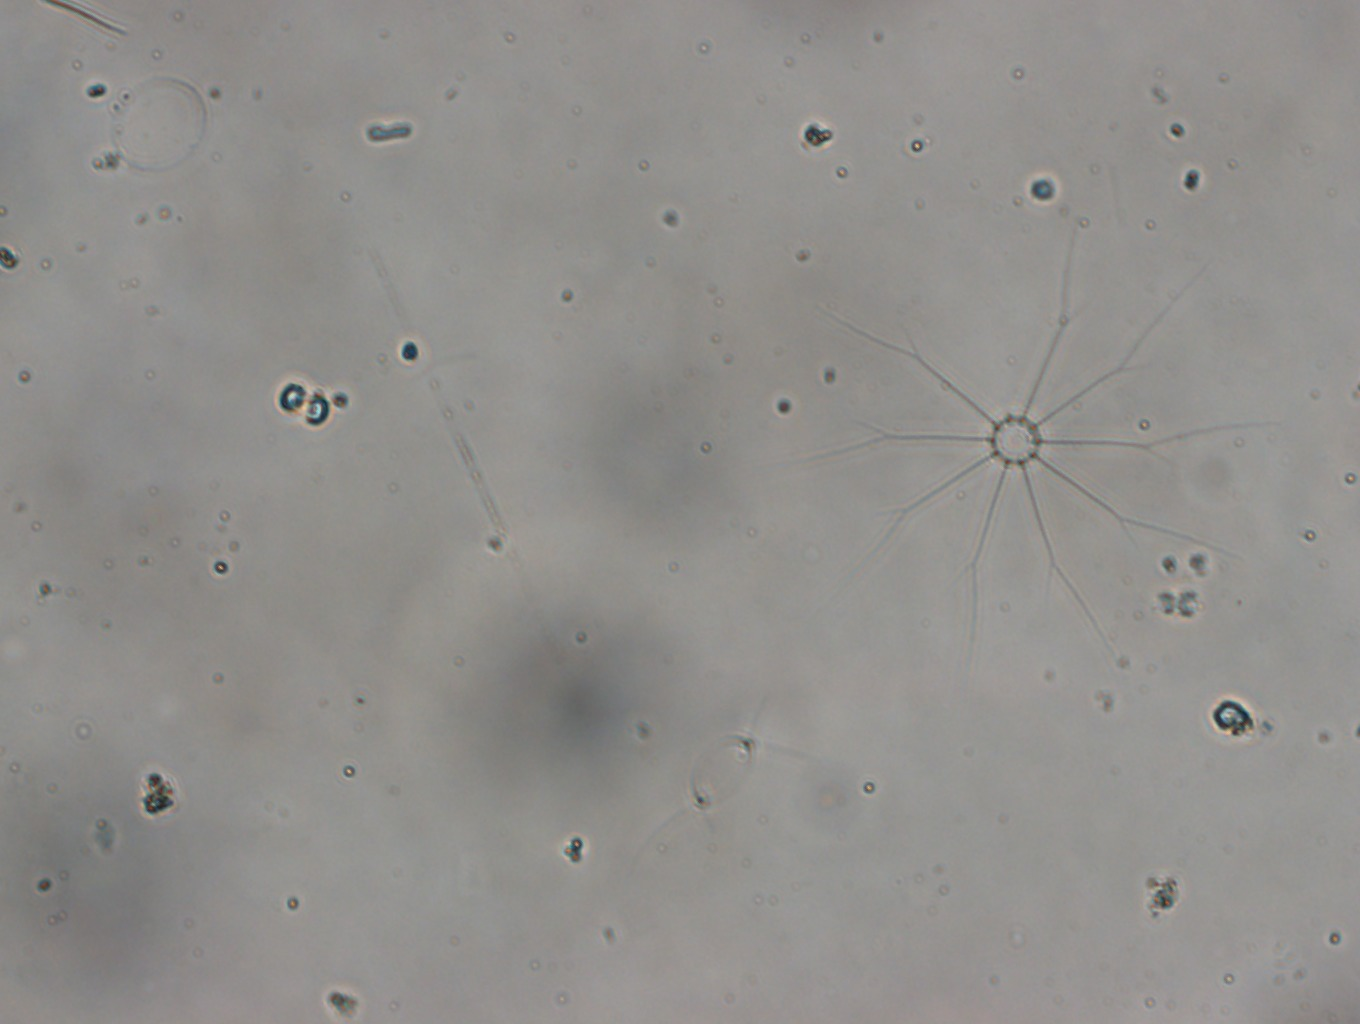bacteriastrum: (792, 221, 1262, 658)
